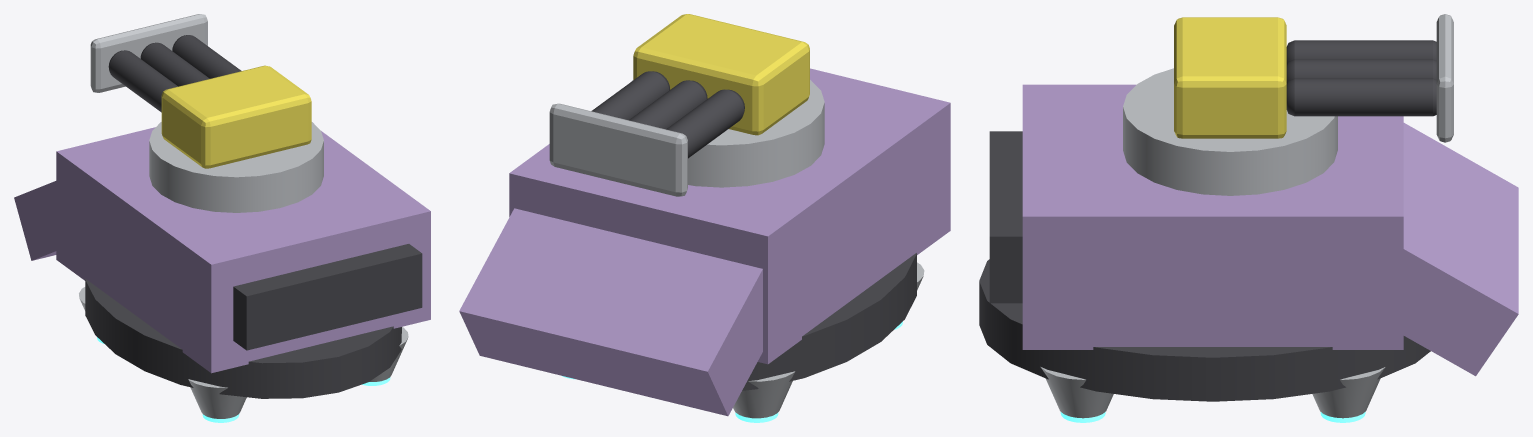
Rendered from robot_medium_shotgun_hover.glb.
The picture shows the model from 3 angles, left to right: view 1: azimuth 30°, elevation 25°; view 2: azimuth 150°, elevation 25°; view 3: azimuth 270°, elevation 25°; orthographic projection. The views are drawn at different scales.
Visible parts, largest first — view 1: robot_medium_shotgun_hover, robot_medium_shotgun_hover_gun; view 2: robot_medium_shotgun_hover, robot_medium_shotgun_hover_gun; view 3: robot_medium_shotgun_hover, robot_medium_shotgun_hover_gun.
Part boxes in pixels (x1,y1,x2,y2): robot_medium_shotgun_hover: (14, 122, 430, 422); robot_medium_shotgun_hover_gun: (90, 14, 311, 168); robot_medium_shotgun_hover: (459, 68, 950, 422); robot_medium_shotgun_hover_gun: (549, 14, 809, 196); robot_medium_shotgun_hover: (979, 68, 1518, 422); robot_medium_shotgun_hover_gun: (1174, 14, 1453, 142).
Size of what is drawn, in the model's own units: 3.36 by 3.29 by 4.98.
